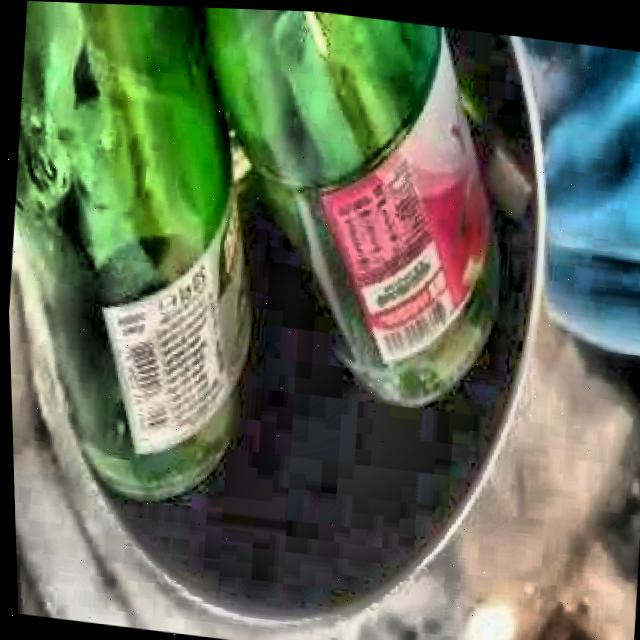glass: (13, 1, 493, 496)
